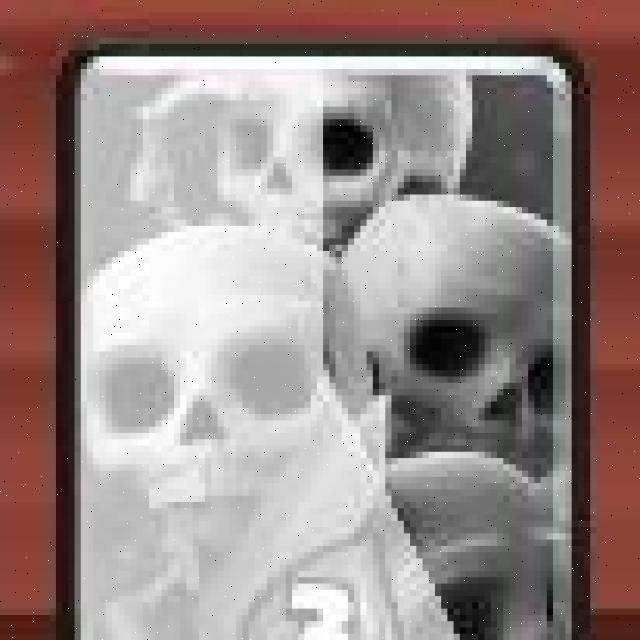Skeleton_Army: (59, 44, 597, 640)
